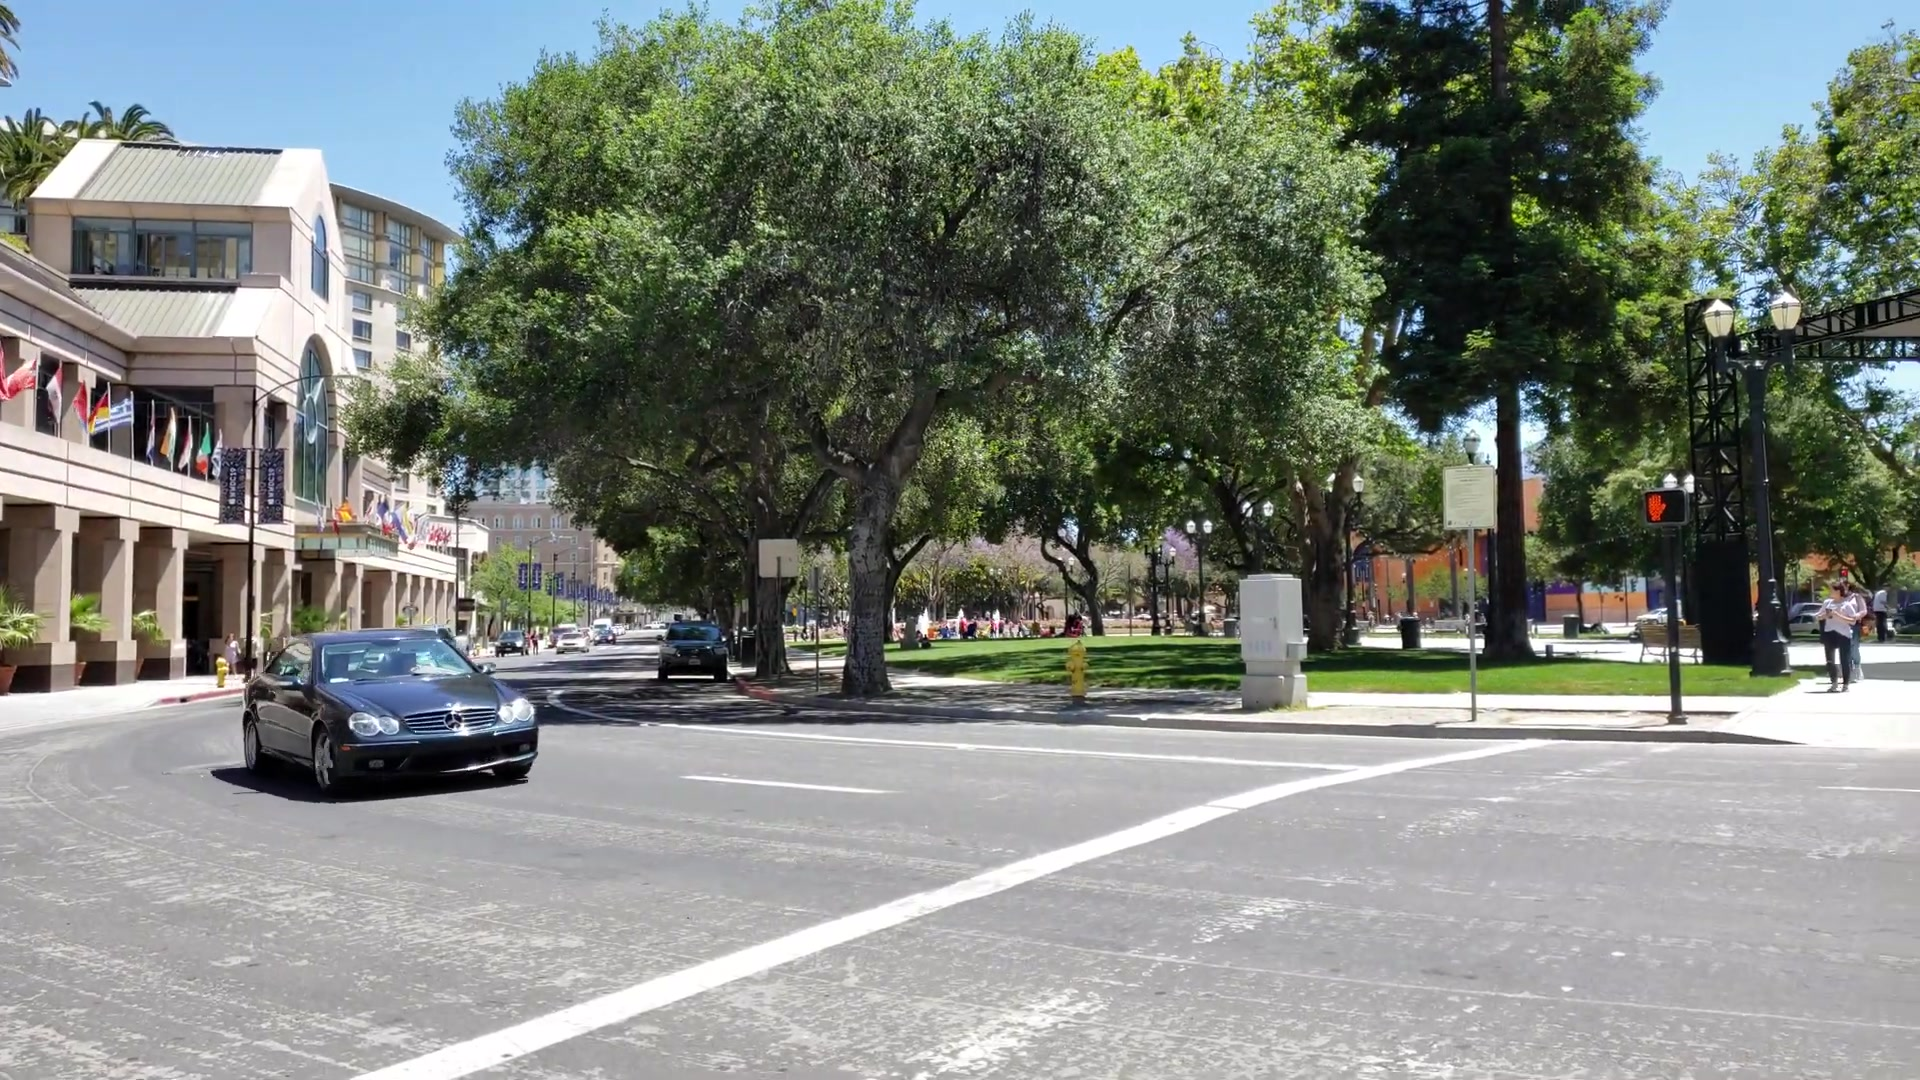vehicle: (243, 632, 538, 789), (661, 622, 732, 682), (554, 632, 589, 654), (491, 634, 527, 655)
